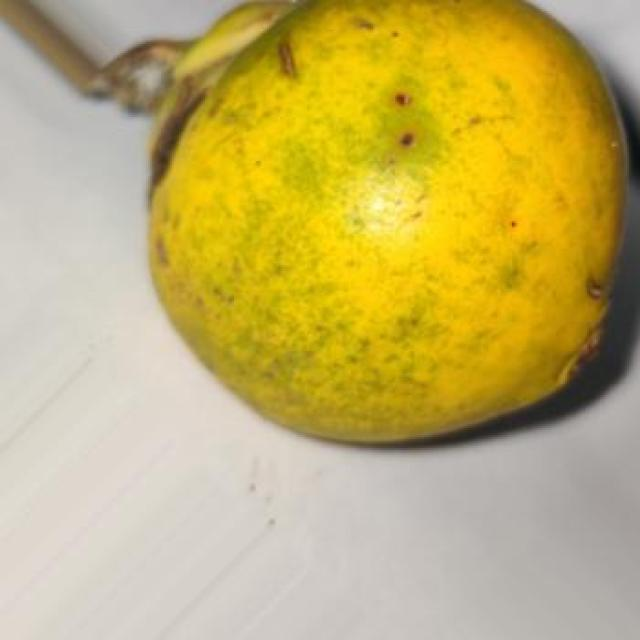damaged: (146, 0, 631, 448)
